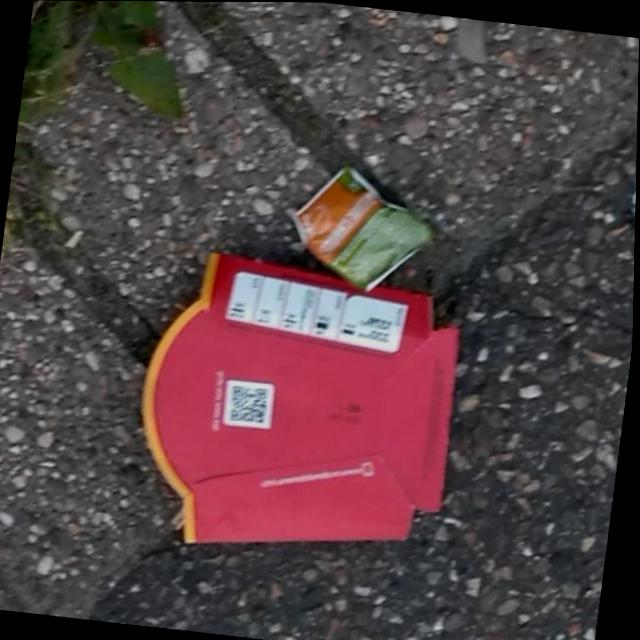Paper: (120, 237, 474, 575)
